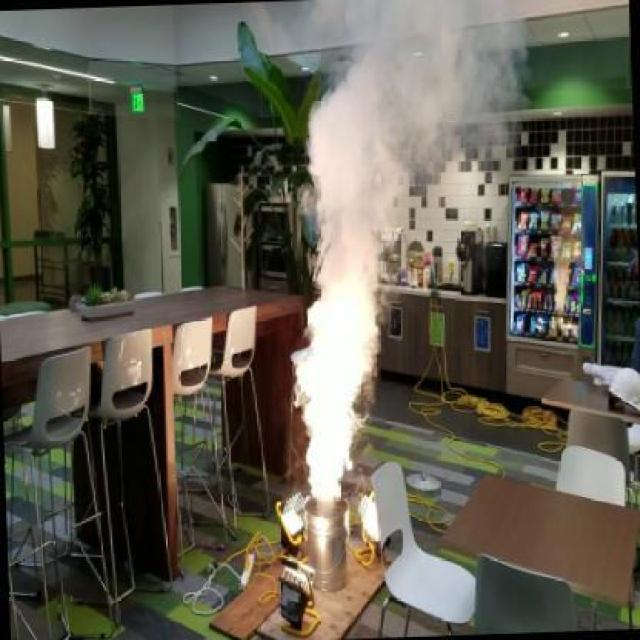fire: (290, 100, 395, 474)
